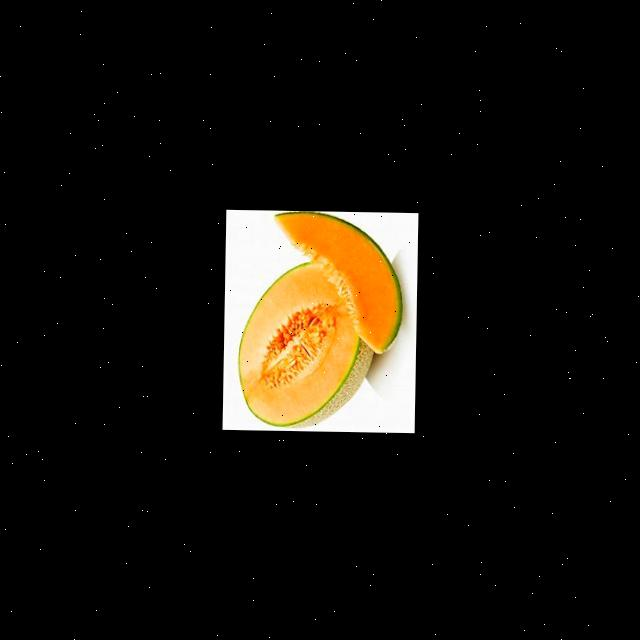Hami Melon: (237, 259, 375, 427), (271, 210, 404, 352)
